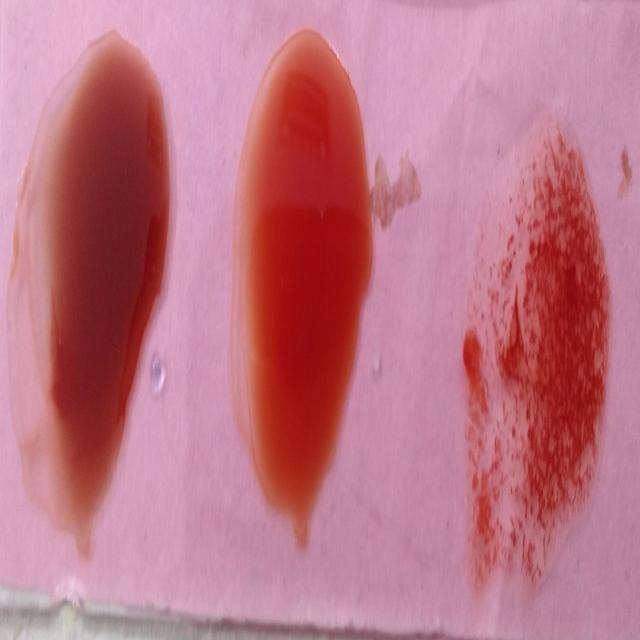D: (468, 101, 607, 599)
